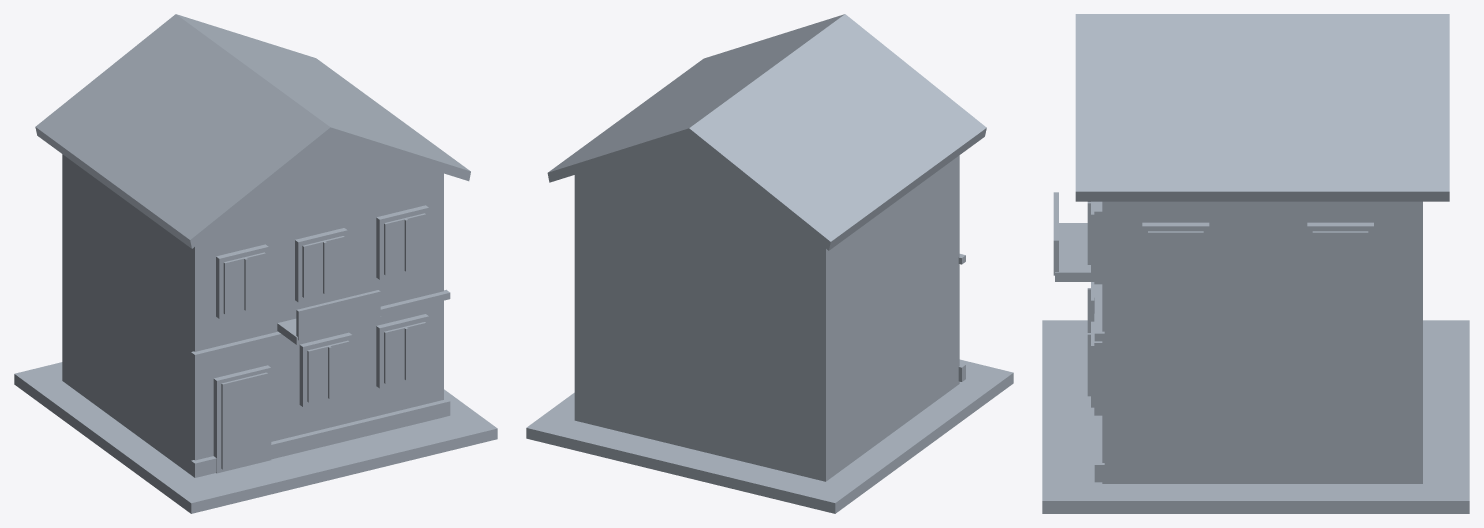
File: townhouse.glb
3 views of the same model, side by side, from view 1: azimuth 30°, elevation 25°; view 2: azimuth 150°, elevation 25°; view 3: azimuth 270°, elevation 25° (orthographic). The views are drawn at different scales.
Visible parts, largest first — view 1: townhouse-brick-2, townhouse-clay-30, townhouse-stone-1, townhouse-brick-29, townhouse-cedar-6, townhouse-stone-3, townhouse-trim-9, townhouse-glass-11, townhouse-glass-20, townhouse-glass-17, townhouse-glass-14, townhouse-glass-23 (+8 smaller); view 2: townhouse-brick-2, townhouse-clay-30, townhouse-stone-1, townhouse-brick-29; view 3: townhouse-brick-2, townhouse-clay-30, townhouse-stone-1, townhouse-glass-28, townhouse-glass-26, townhouse-stone-8, townhouse-trim-25, townhouse-trim-27, townhouse-trim-22, townhouse-trim-13, townhouse-stone-3, townhouse-stone-4 (+1 smaller).
Boxes of the visible parts, x1,y1,x2,y2 form: townhouse-brick-2: (62, 154, 443, 476); townhouse-clay-30: (35, 14, 470, 248); townhouse-stone-1: (14, 362, 497, 513); townhouse-brick-29: (232, 138, 428, 217); townhouse-cedar-6: (221, 372, 267, 469); townhouse-stone-3: (191, 398, 450, 477); townhouse-trim-9: (296, 290, 380, 340); townhouse-glass-11: (307, 340, 349, 402); townhouse-glass-20: (302, 236, 344, 297); townhouse-glass-17: (223, 252, 265, 314); townhouse-glass-14: (384, 322, 425, 383); townhouse-glass-23: (384, 213, 425, 275); townhouse-brick-2: (574, 155, 959, 481); townhouse-clay-30: (547, 14, 986, 250); townhouse-stone-1: (526, 359, 1013, 513); townhouse-brick-29: (590, 139, 788, 218); townhouse-brick-2: (1102, 201, 1422, 483); townhouse-clay-30: (1075, 14, 1449, 201); townhouse-stone-1: (1042, 320, 1469, 513); townhouse-glass-28: (1312, 231, 1368, 295); townhouse-glass-26: (1148, 231, 1203, 295); townhouse-stone-8: (1055, 223, 1094, 281); townhouse-trim-25: (1142, 222, 1209, 298); townhouse-trim-27: (1307, 222, 1373, 298); townhouse-trim-22: (1094, 201, 1102, 284); townhouse-trim-13: (1094, 314, 1102, 415); townhouse-stone-3: (1094, 415, 1104, 482); townhouse-stone-4: (1094, 284, 1104, 341).
Bounding box in the file's own units: 9.6 × 10.15 × 9.6.
